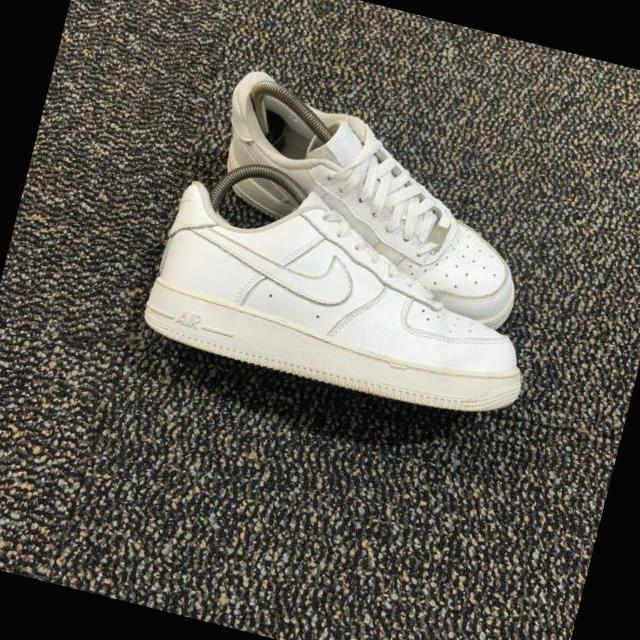nike_fake_airforce: (138, 152, 562, 434), (190, 74, 556, 336)
